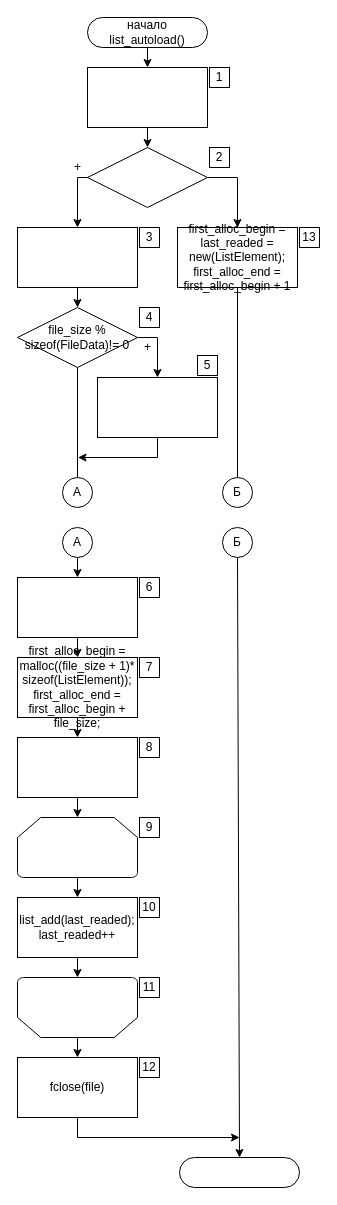
This 337x1205 diagram has some shape labels left out. The shapes that lost their labels are listed below. From the top down, each one's box as (x1, y1, x2, y2) in pixels, then its label:
(86, 66, 208, 128): FILE * file = fopen (AUTOSAVE, "rb")
(86, 146, 208, 208): file
(16, 226, 138, 288): size_t file_size = get_file_size(file)
(96, 376, 218, 438): puts(AUTOSAVE " seems to be corrupted")
(16, 576, 138, 638): file_size /= sizeof(FileData);
(16, 736, 138, 798): last_readed = first_alloc_begin
(16, 816, 138, 878): Цикл A Пока 0 != fread(last_readed, sizeof(FileData), 1, file)
(16, 976, 138, 1038): Цикл A
(178, 1156, 300, 1188): конец
